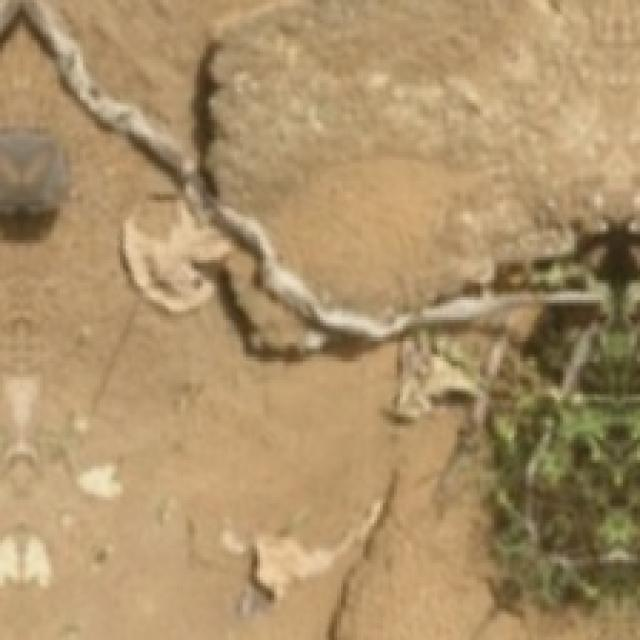king cobra: (49, 0, 637, 314), (0, 0, 163, 149), (66, 143, 166, 211)
